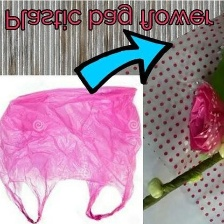plastic_bag: (0, 82, 146, 224)
